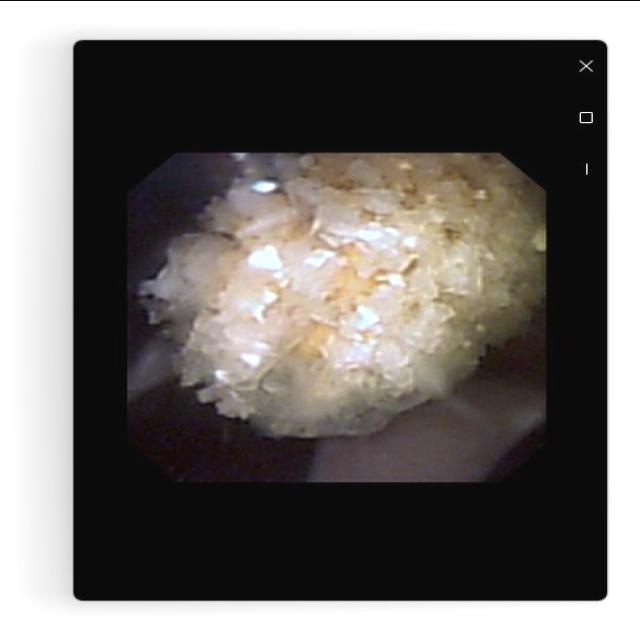stone: (144, 159, 539, 434)
